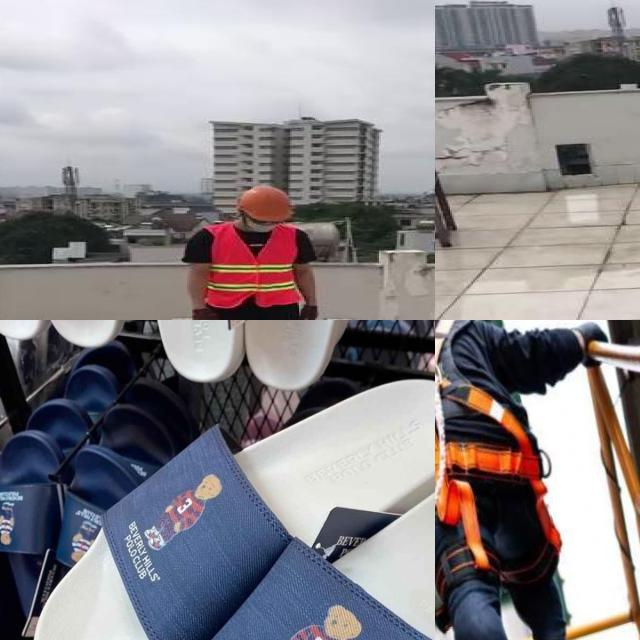Harness: (435, 320, 540, 570)
Sandals: (7, 359, 435, 640)
hand_glove: (188, 308, 222, 320), (295, 304, 318, 320)
head_helmet: (238, 185, 294, 222)
person: (178, 183, 325, 320)
vest: (205, 223, 306, 306)
